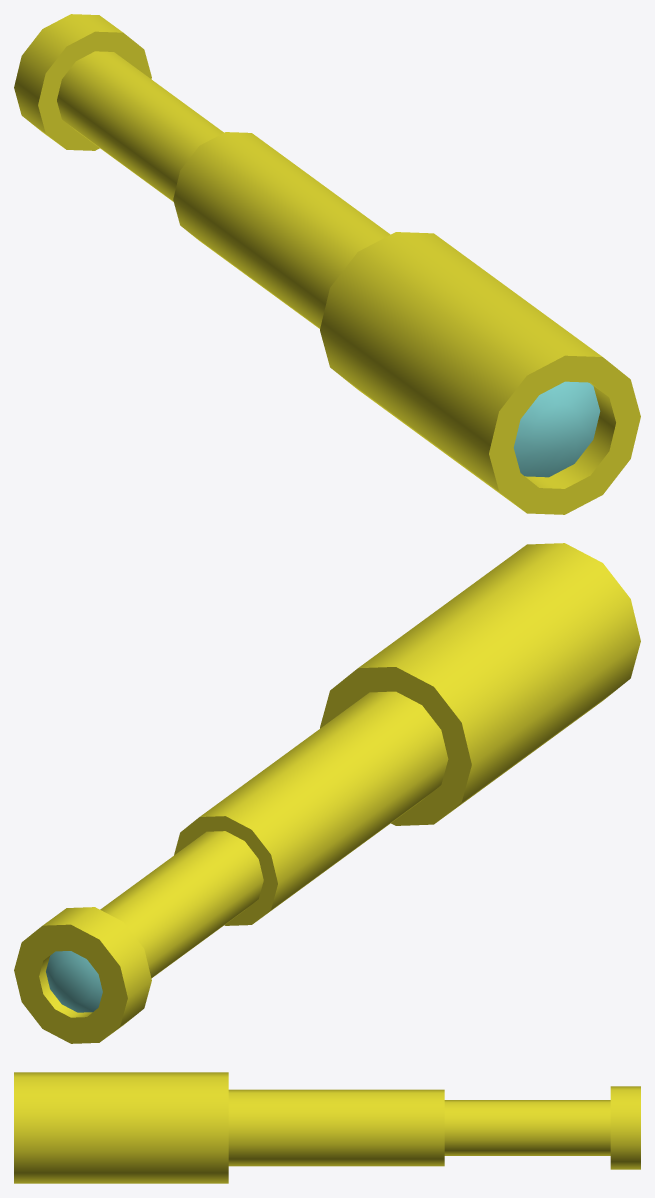
File: Telescope.fbx
3 renders of one model, top to bottom at view 1: azimuth 30°, elevation 25°; view 2: azimuth 150°, elevation 25°; view 3: azimuth 270°, elevation 25°, orthographic. The views are drawn at different scales.
Parts seen in each view (by area): view 1: Cylinder; view 2: Cylinder; view 3: Cylinder.
Boxes of the visible parts, x1,y1,x2,y2 form: Cylinder: (14,14,640,514); Cylinder: (14,543,640,1043); Cylinder: (14,1072,640,1183).
Size of the model in its own units: 12.07 by 12.07 by 67.89.
